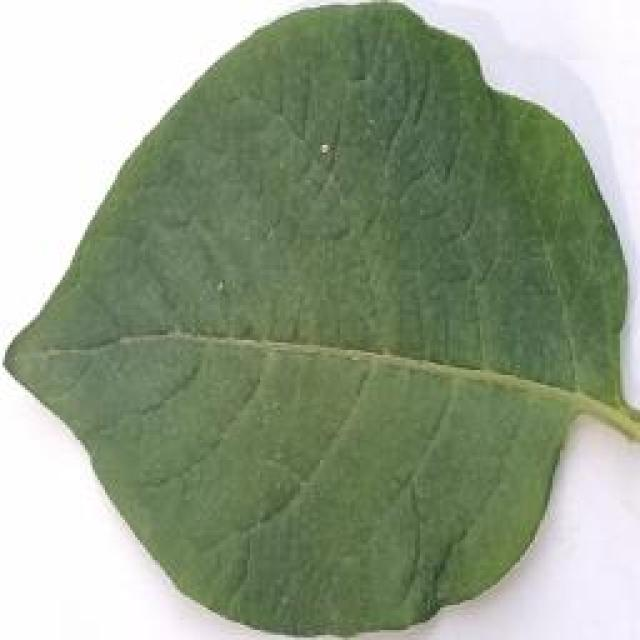Potato_Healthy: (3, 6, 630, 631)
